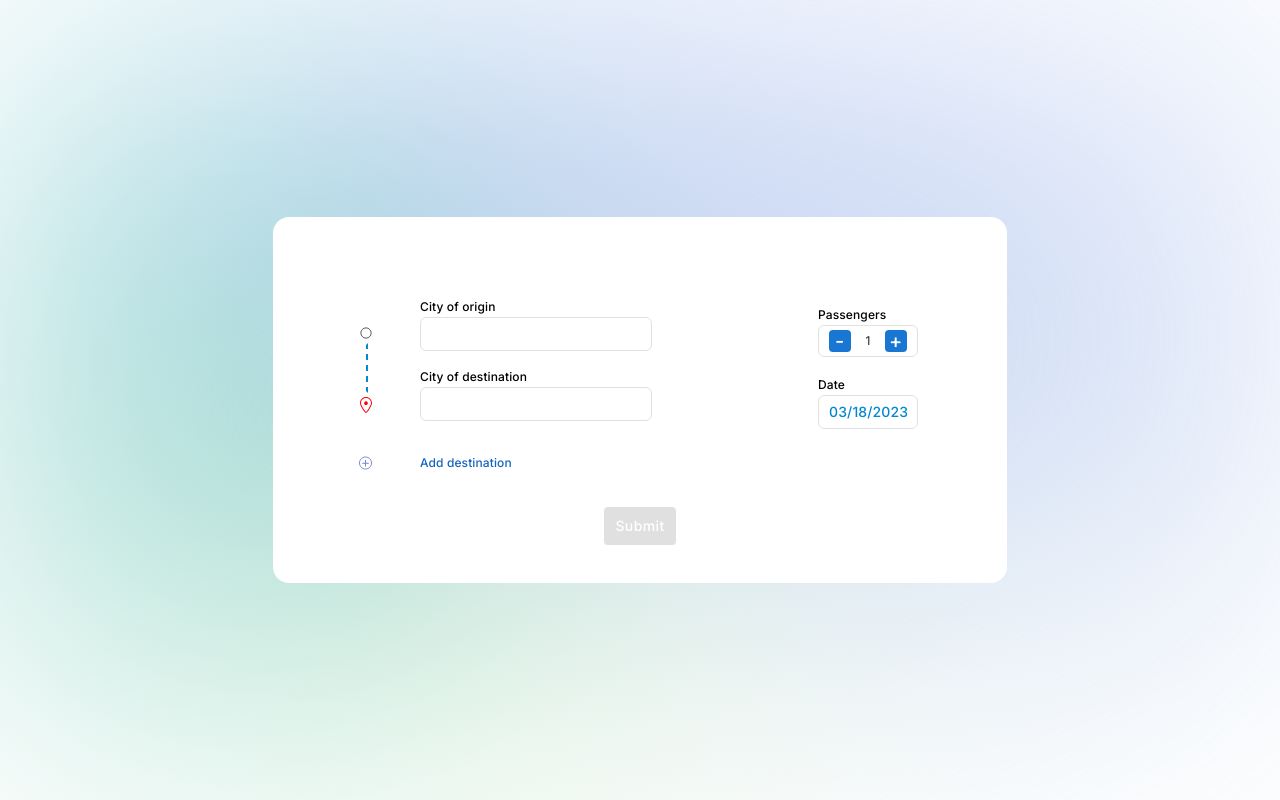
Search › should render one origin field and two destination fields when click add button
The width and height of the screenshot is (1280, 800).
Step 1. Click the text with test id "add-destination" → (466, 463), box [420,455,512,471]
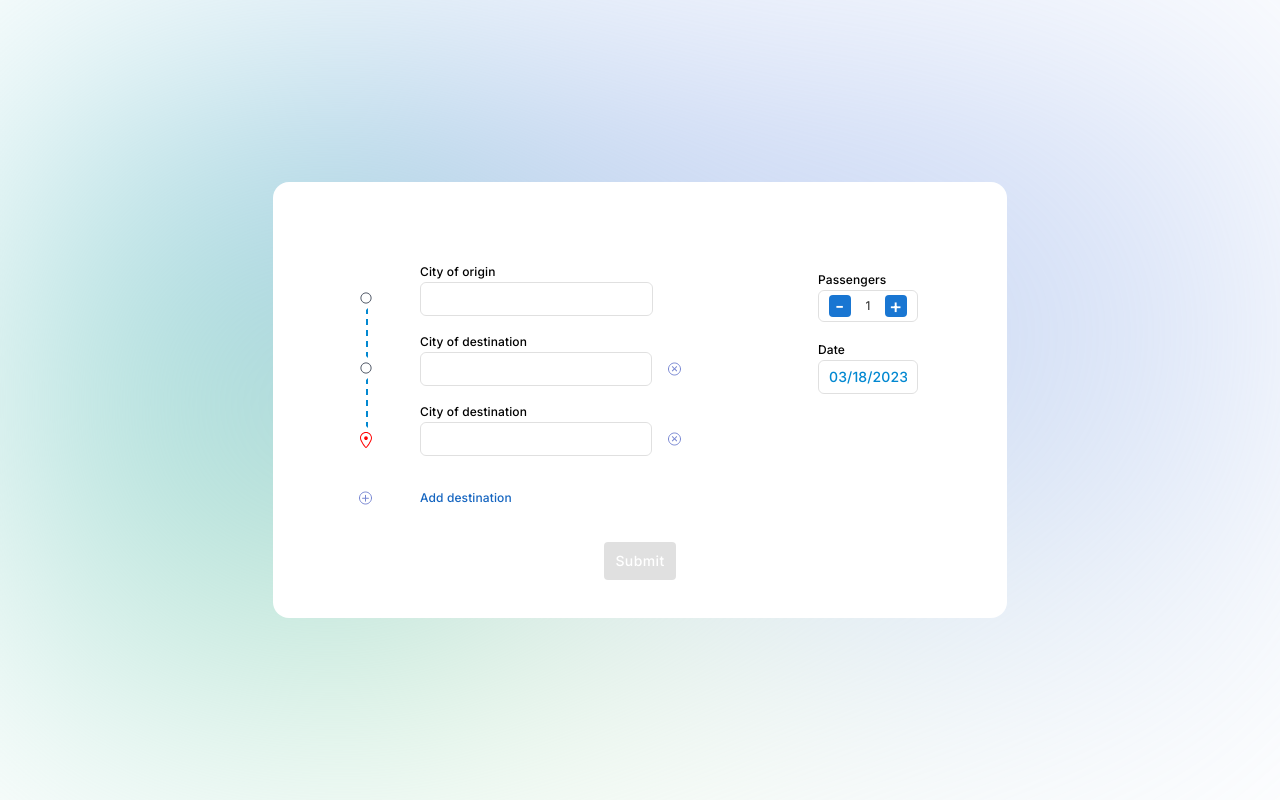
Expected: the number of elements with test id "async-autocomplete" is 3, [420,264,653,316]; [420,334,653,386]; [420,404,653,456]
